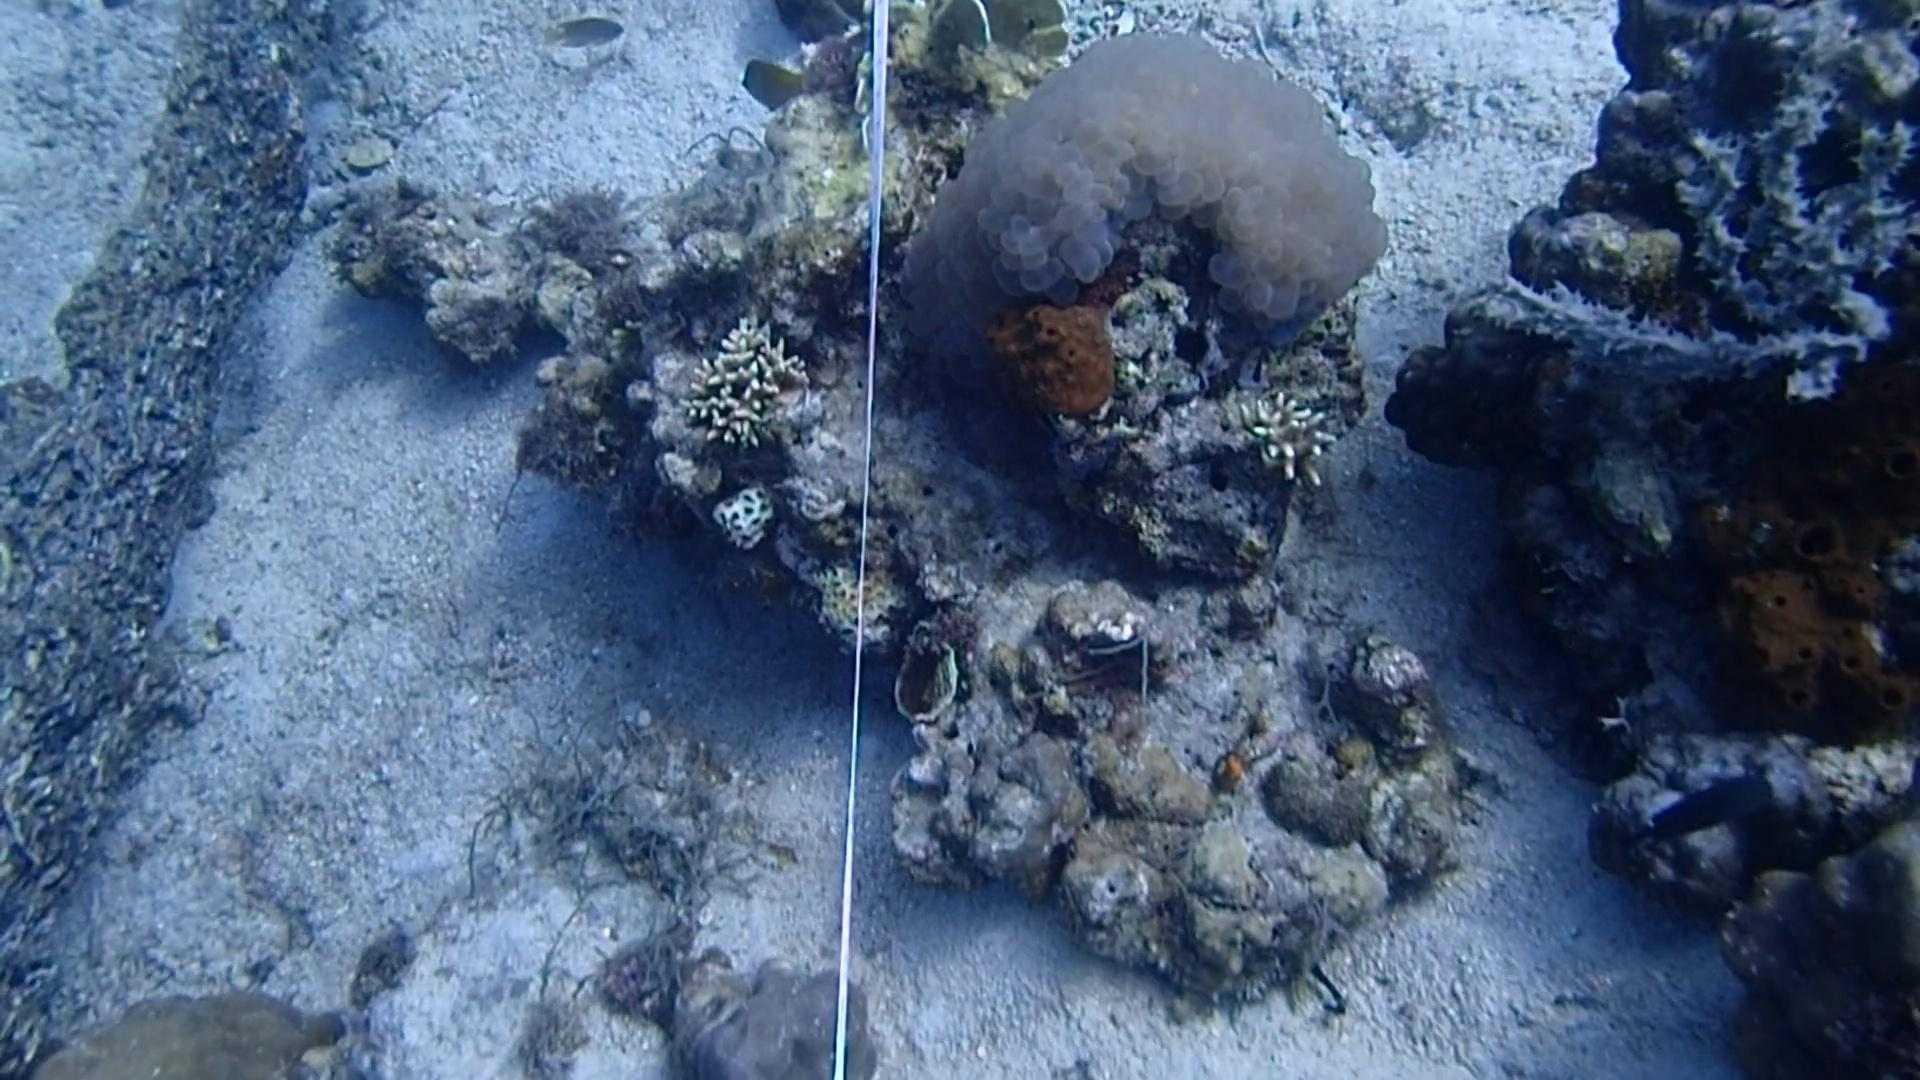Big Dark Blue Fish: (1629, 757, 1779, 862)
Light Fish: (534, 0, 634, 65)
Yellow-Blue Fish: (723, 50, 814, 117)
